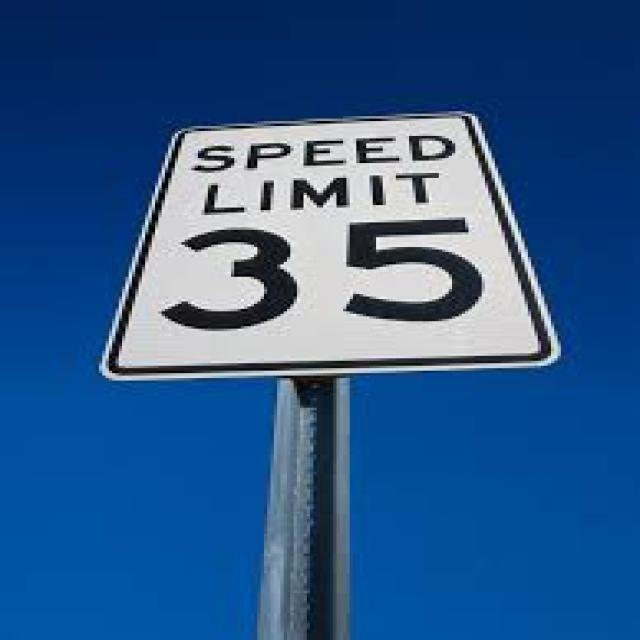speedLimit35: (96, 103, 568, 385)
